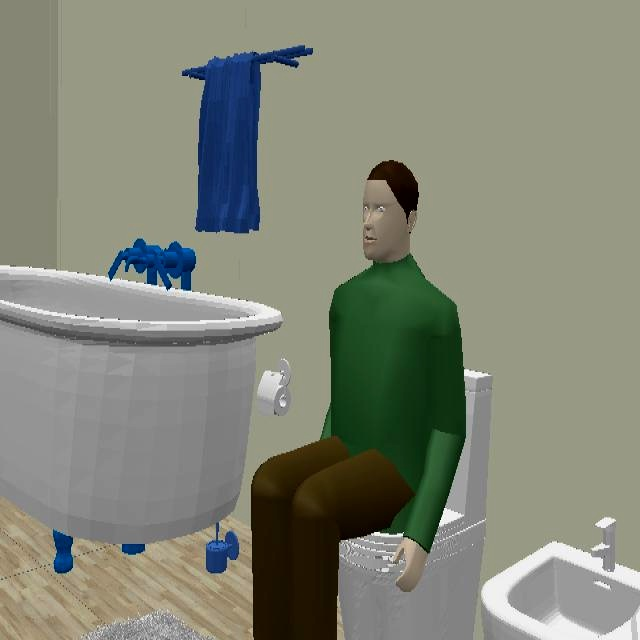bathtube: (0, 265, 283, 551)
person: (253, 160, 466, 640)
toilet: (337, 371, 493, 640)
washbasin: (481, 517, 640, 640)
